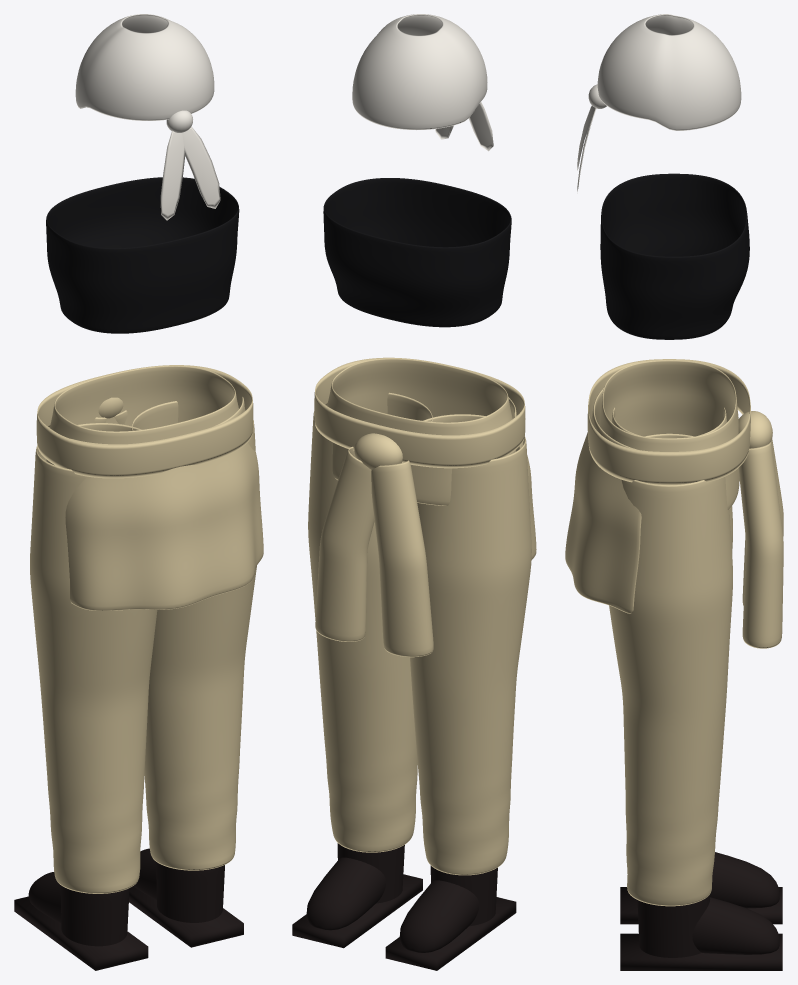
Rendered from tenue_winry_generee.glb.
3 views of the same model, side by side, from view 1: azimuth 30°, elevation 25°; view 2: azimuth 150°, elevation 25°; view 3: azimuth 270°, elevation 25° (orthographic). The views are drawn at different scales.
Visible parts, largest first — view 1: Combinaison_Pantalon_Winry, Haut_Replie_Winry, Bustier_Winry, Bandana_Winry, Manches_Nouees_Winry, Chaussures_Winry, Semelles_Winry; view 2: Combinaison_Pantalon_Winry, Manches_Nouees_Winry, Bustier_Winry, Bandana_Winry, Chaussures_Winry, Semelles_Winry, Haut_Replie_Winry; view 3: Combinaison_Pantalon_Winry, Bustier_Winry, Manches_Nouees_Winry, Bandana_Winry, Chaussures_Winry, Haut_Replie_Winry, Semelles_Winry.
Boxes of the visible parts, left/top/right/bottom form: Combinaison_Pantalon_Winry: left=30, top=365, right=256, bottom=893; Haut_Replie_Winry: left=65, top=397, right=263, bottom=610; Bustier_Winry: left=46, top=177, right=239, bottom=333; Bandana_Winry: left=75, top=14, right=220, bottom=220; Manches_Nouees_Winry: left=36, top=365, right=253, bottom=478; Chaussures_Winry: left=28, top=848, right=224, bottom=946; Semelles_Winry: left=14, top=886, right=243, bottom=970; Combinaison_Pantalon_Winry: left=308, top=358, right=531, bottom=875; Manches_Nouees_Winry: left=314, top=357, right=525, bottom=657; Bustier_Winry: left=323, top=178, right=511, bottom=327; Bandana_Winry: left=352, top=14, right=493, bottom=151; Chaussures_Winry: left=306, top=843, right=497, bottom=952; Semelles_Winry: left=292, top=874, right=516, bottom=970; Haut_Replie_Winry: left=508, top=397, right=536, bottom=559; Combinaison_Pantalon_Winry: left=599, top=360, right=739, bottom=906; Bustier_Winry: left=600, top=173, right=749, bottom=339; Manches_Nouees_Winry: left=587, top=359, right=783, bottom=648; Bandana_Winry: left=577, top=14, right=741, bottom=193; Chaussures_Winry: left=637, top=852, right=779, bottom=957; Haut_Replie_Winry: left=565, top=388, right=641, bottom=613; Semelles_Winry: left=620, top=887, right=782, bottom=970.
Size of the model in its own units: 0.4246 by 1.73 by 0.3768.
